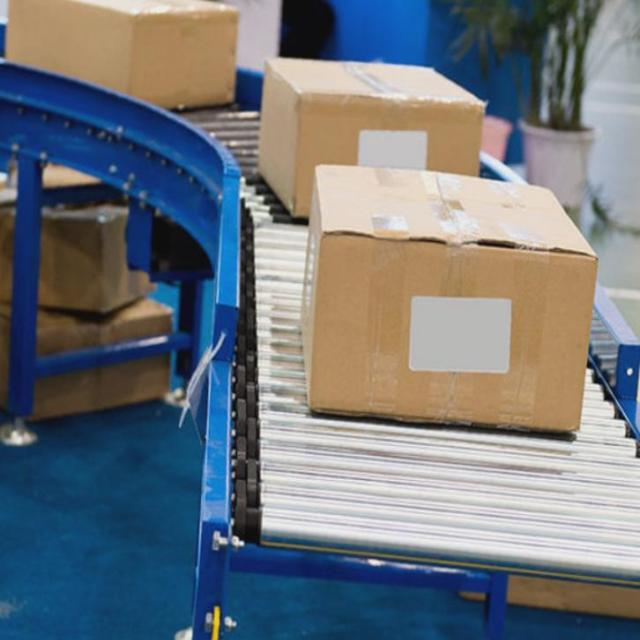food: (299, 162, 599, 435), (256, 54, 488, 222), (2, 0, 240, 113)
